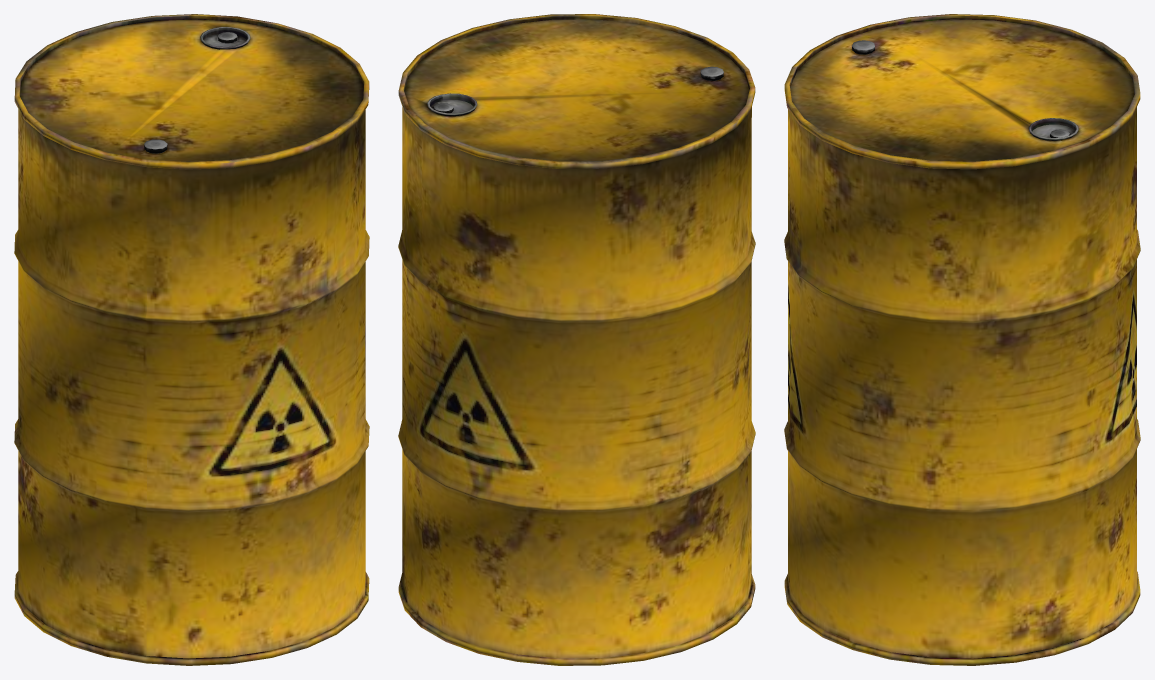
The model's file is barrel_toxic.glb.
3 renders of one model, left to right at view 1: azimuth 30°, elevation 25°; view 2: azimuth 150°, elevation 25°; view 3: azimuth 270°, elevation 25°, orthographic.
Visible parts, largest first — view 1: Barrel_01; view 2: Barrel_01; view 3: Barrel_01.
Part boxes in pixels (left/top/right/bottom): Barrel_01: left=14, top=14, right=369, bottom=665; Barrel_01: left=398, top=14, right=755, bottom=665; Barrel_01: left=784, top=14, right=1140, bottom=665.
Size of the model in its own units: 0.5635 by 0.88 by 0.5627.
1 material, 1 textured.
